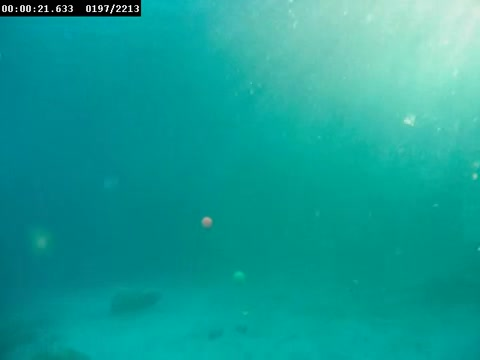buoy_green: (232, 270, 246, 288)
buoy_red: (200, 216, 214, 231)
